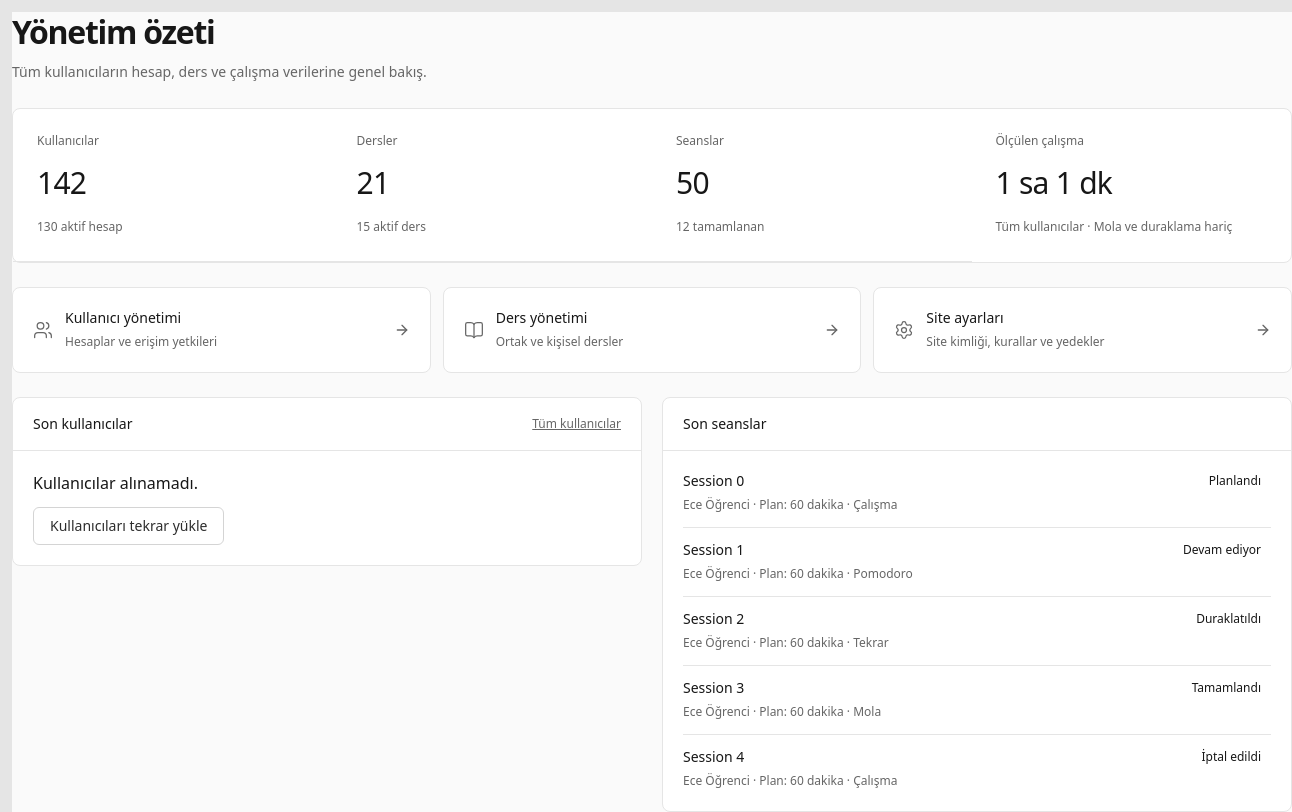
retries user reads independently without converting failure into an empty list
Expected: the text "Kullanıcılar alınamadı." is shown, [33,472,198,494]
Expected: the text "142" is shown, [37,162,86,203]
What coordinates should you click on to do the following:
click the button "Kullanıcıları tekrar yükle"
I would click on:
 (129, 526)
Its box is [33,507,224,545].
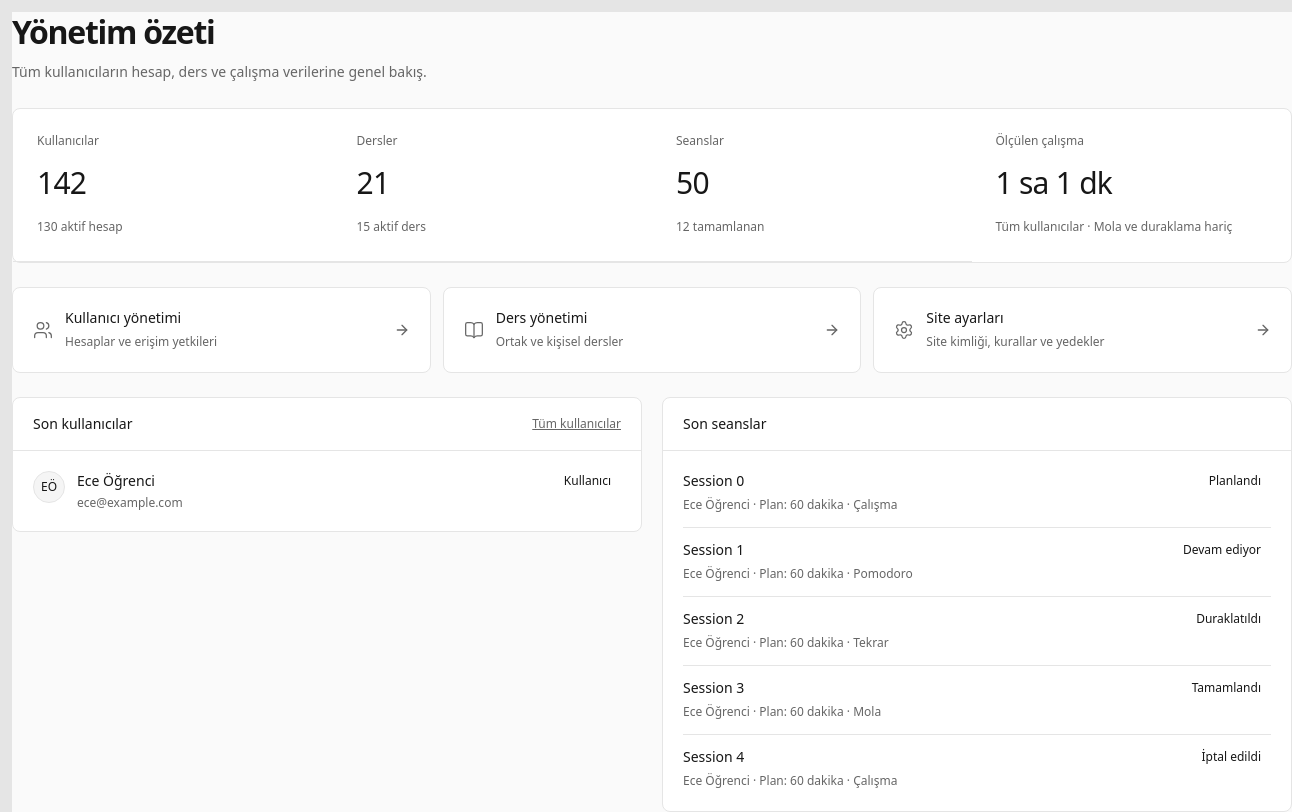
Result: the text "ece@example.com" is shown at [77,494,183,511]
